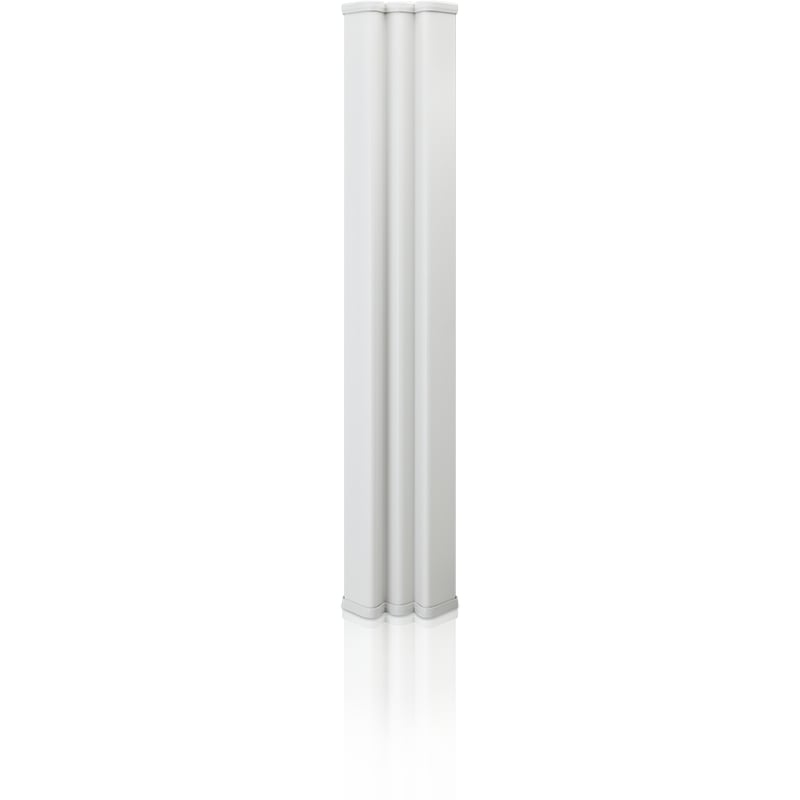sa: (300, 3, 499, 665)
